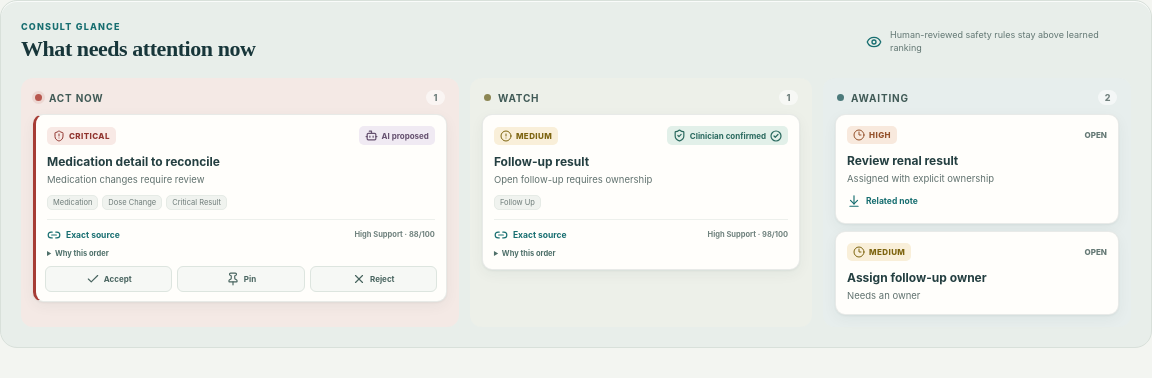
Test: missing optional shadow feedback is displayed as a neutral zero
Click the heading "Why this order" below "dose change".
click(78, 253)  # box [47, 249, 109, 258]
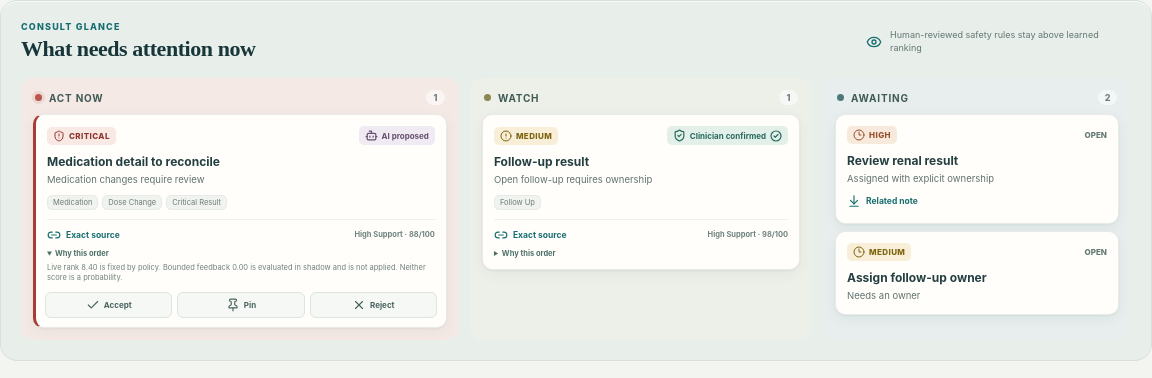
Expected: the text "Bounded feedback 0.00" is shown, [47, 263, 435, 284]
